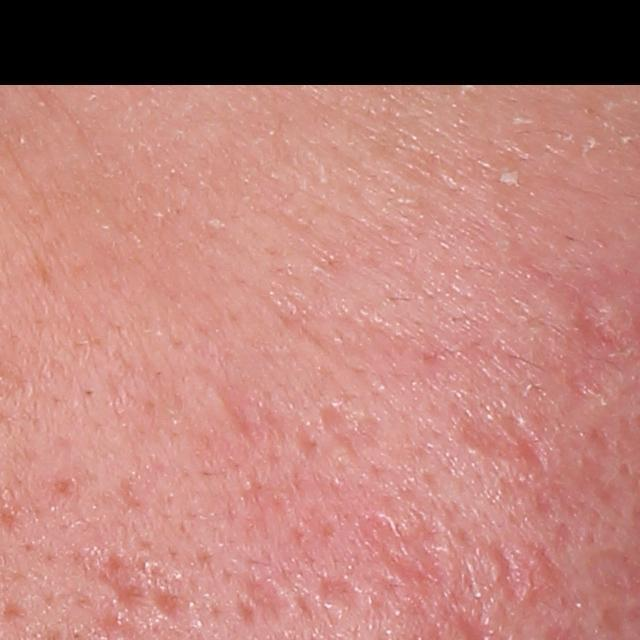atrophic_scar: (362, 508, 455, 618), (444, 400, 558, 484), (318, 400, 380, 459), (95, 550, 148, 618), (570, 299, 625, 355), (242, 570, 292, 625), (311, 573, 363, 616), (491, 545, 525, 609), (147, 586, 185, 624)
